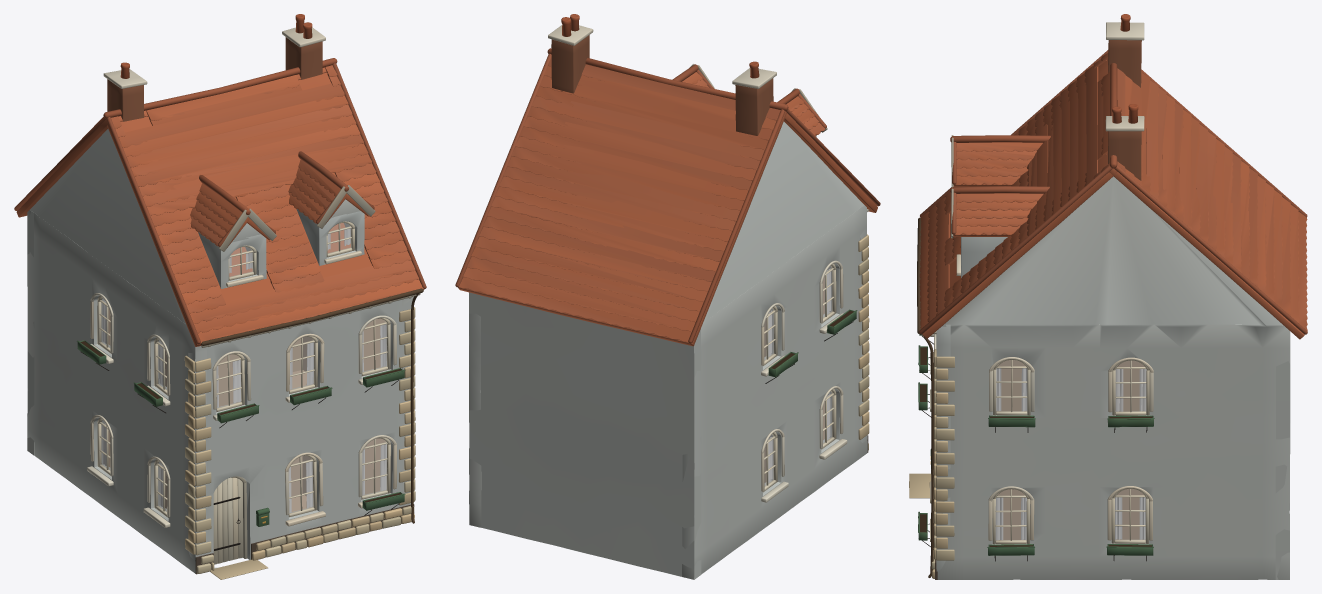
File: GateStreet_Bend3.glb
The picture shows the model from 3 angles, left to right: view 1: azimuth 30°, elevation 25°; view 2: azimuth 150°, elevation 25°; view 3: azimuth 270°, elevation 25°; orthographic projection. The views are drawn at different scales.
Parts seen in each view (by area): view 1: Sammel Putz, Sammel Stein, Sammel Lack, Glas, Sammel Putz innen, Vorhang Leinen, Sammel Ziegel, Sammel Metall; view 2: Sammel Putz, Sammel Stein, Sammel Ziegel, Sammel Lack, Glas, Vorhang Leinen; view 3: Sammel Putz, Sammel Stein, Sammel Lack, Glas, Sammel Putz innen, Sammel Ziegel, Vorhang Leinen, Sammel Metall.
Boxes of the visible parts, x1=… form: Sammel Putz: x1=27, y1=14, x2=414, y2=574; Sammel Stein: x1=14, y1=58, x2=426, y2=579; Sammel Lack: x1=77, y1=185, x2=420, y2=564; Glas: x1=101, y1=223, x2=386, y2=512; Sammel Putz innen: x1=108, y1=308, x2=385, y2=511; Vorhang Leinen: x1=102, y1=228, x2=386, y2=512; Sammel Ziegel: x1=107, y1=37, x2=322, y2=121; Sammel Metall: x1=80, y1=288, x2=423, y2=550; Sammel Putz: x1=469, y1=14, x2=868, y2=579; Sammel Stein: x1=455, y1=48, x2=880, y2=450; Sammel Ziegel: x1=551, y1=35, x2=773, y2=135; Sammel Lack: x1=689, y1=64, x2=869, y2=492; Glas: x1=764, y1=266, x2=832, y2=485; Vorhang Leinen: x1=768, y1=269, x2=830, y2=481; Sammel Putz: x1=920, y1=14, x2=1290, y2=579; Sammel Stein: x1=909, y1=50, x2=1307, y2=578; Sammel Lack: x1=918, y1=135, x2=1154, y2=555; Glas: x1=996, y1=360, x2=1146, y2=540; Sammel Putz innen: x1=997, y1=360, x2=1144, y2=540; Sammel Ziegel: x1=1108, y1=40, x2=1141, y2=180; Vorhang Leinen: x1=995, y1=368, x2=1146, y2=540; Sammel Metall: x1=917, y1=217, x2=1147, y2=577.
Bounding box in the file's own units: 6.84 × 11.59 × 9.02.
